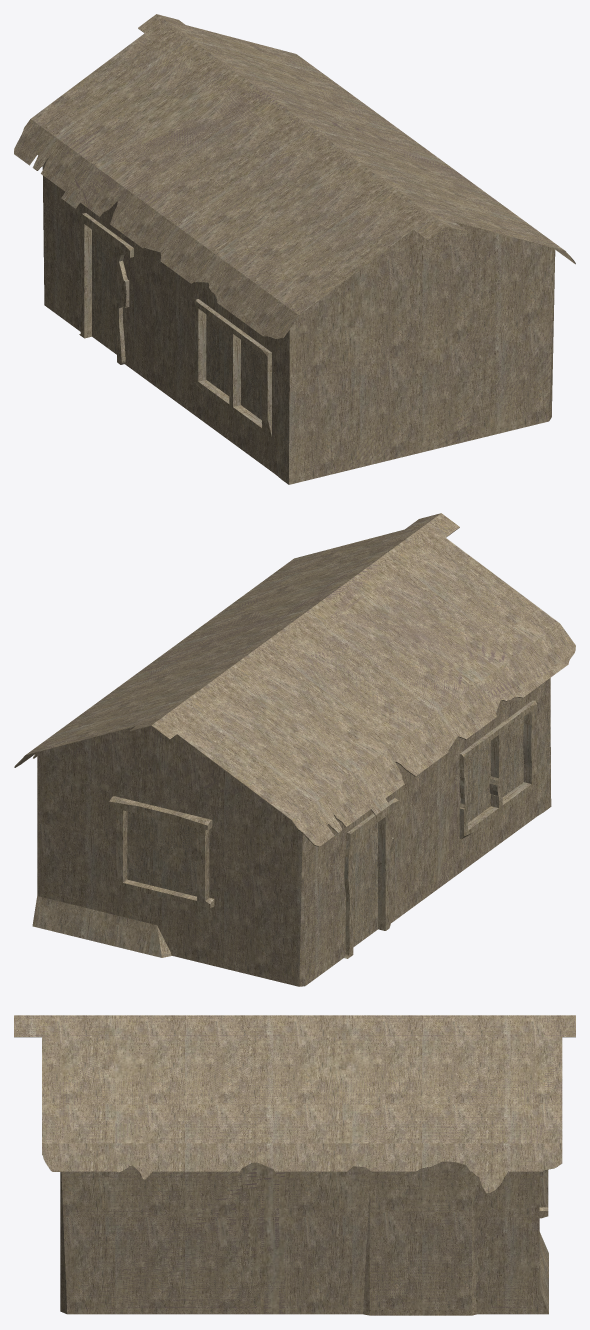
File: House 1.fbx
3 renders of one model, top to bottom at view 1: azimuth 30°, elevation 25°; view 2: azimuth 150°, elevation 25°; view 3: azimuth 270°, elevation 25°, orthographic. The views are drawn at different scales.
Parts seen in each view (by area): view 1: Model; view 2: Model; view 3: Model.
Part boxes in pixels (<box>): Model: <box>14,14,575,484</box>; Model: <box>14,513,575,986</box>; Model: <box>14,1015,575,1315</box>.
Bounding box in the file's own units: 178 × 129 × 278.
